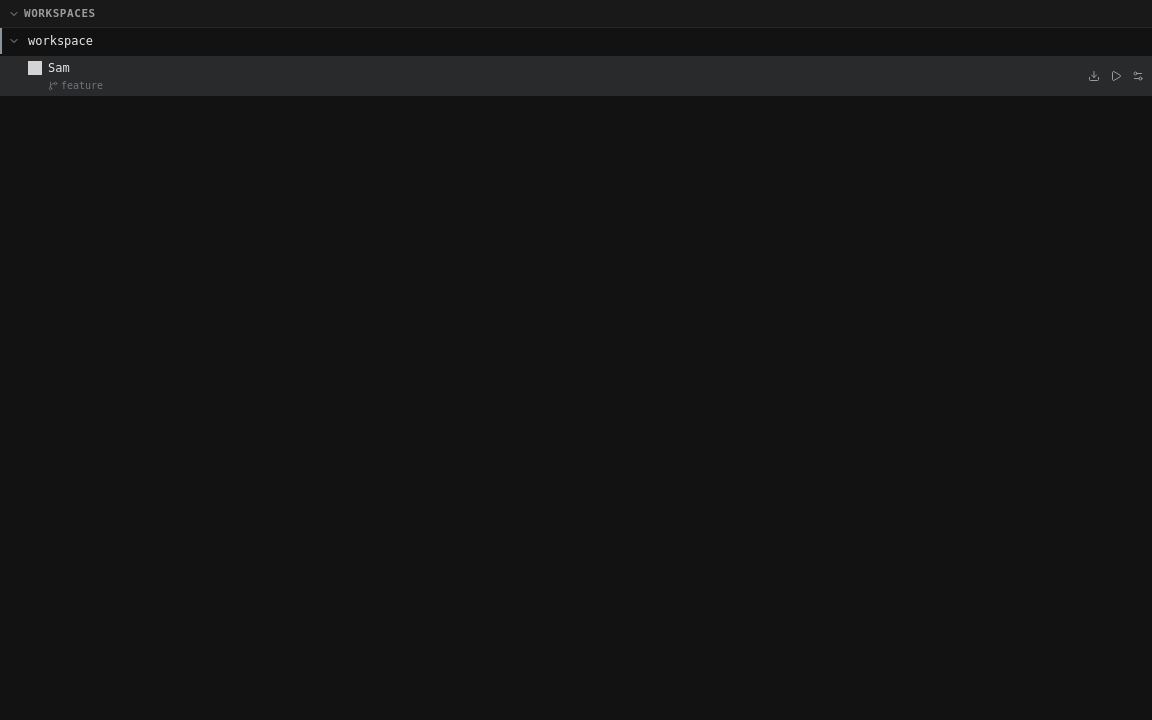
it: checkout-aware sidebar service controls › requires confirmation before opening an install terminal and Cancel executes nothing
The width and height of the screenshot is (1152, 720).
Click the button named "Install dependencies…" at (1094, 76), box [1084,66,1104,86]
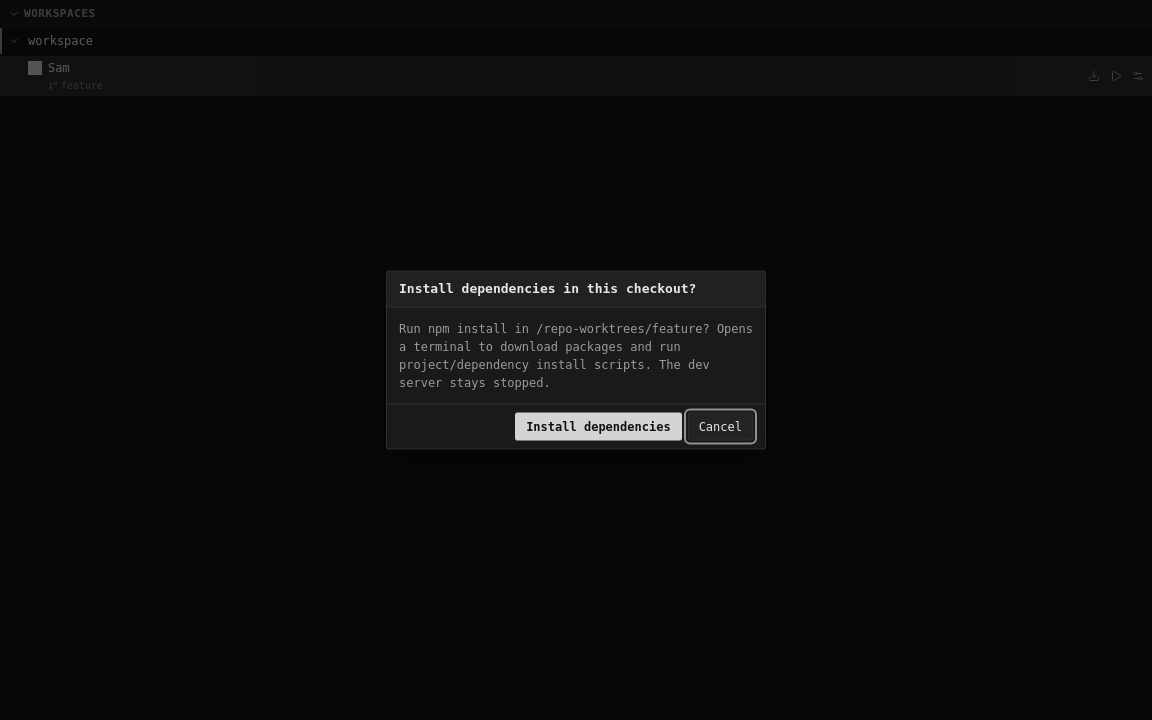
Expected: the dialog shows "npm install", [399,322,753,390]
Expected: the dialog shows "/repo-worktrees/feature", [399,322,753,390]
Expected: the dialog shows "install scripts", [399,322,753,390]
Click the button "Cancel" at (720, 426), box [688,412,753,440]
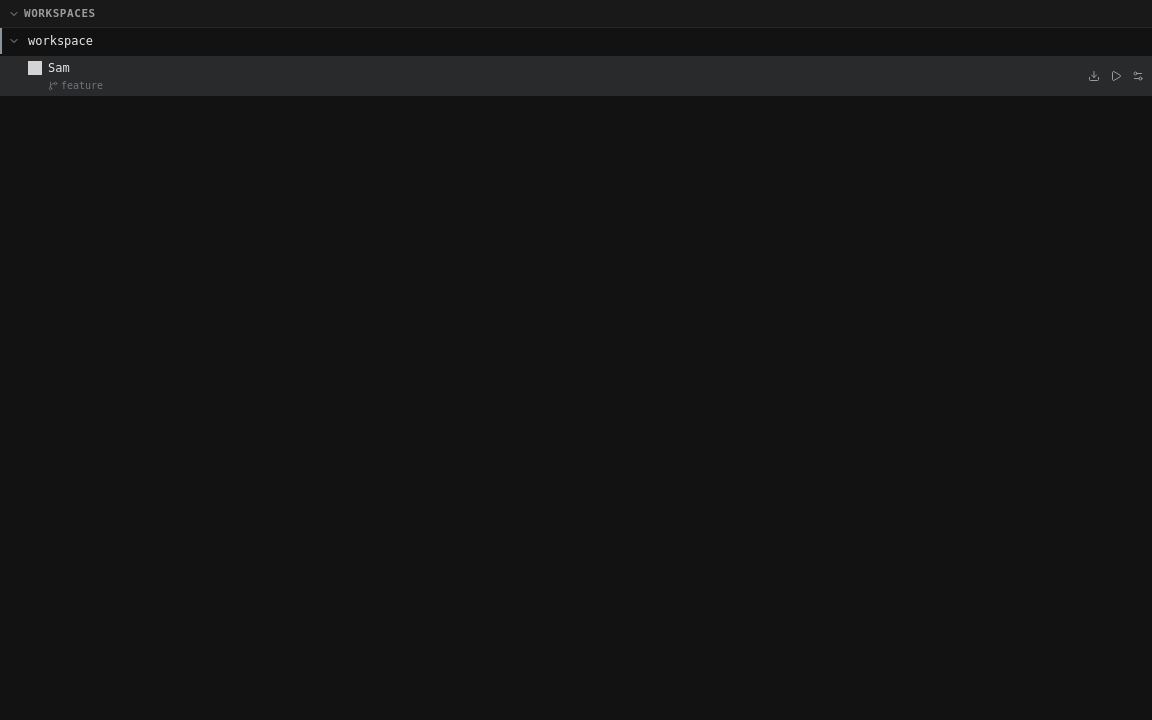
Expected: the dialog is gone
